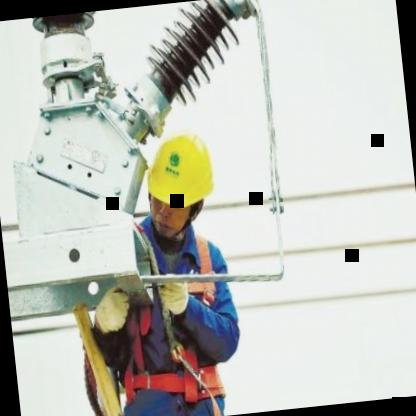helmet: (135, 110, 224, 252)
